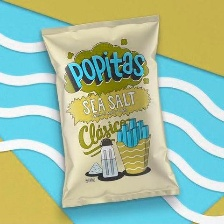snack: (35, 9, 184, 213)
